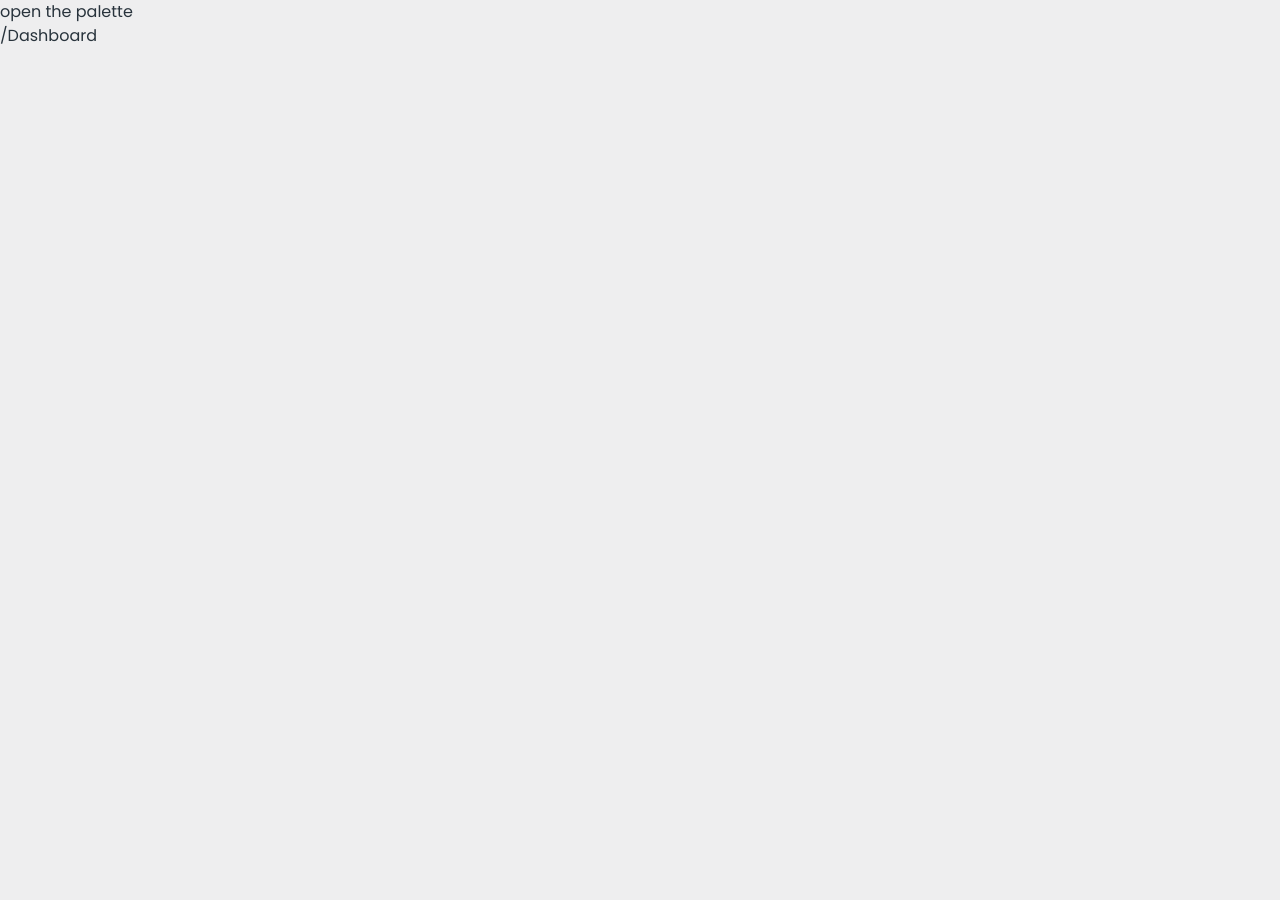
Test: choosing › offers only the pages and actions the person may use
Press k
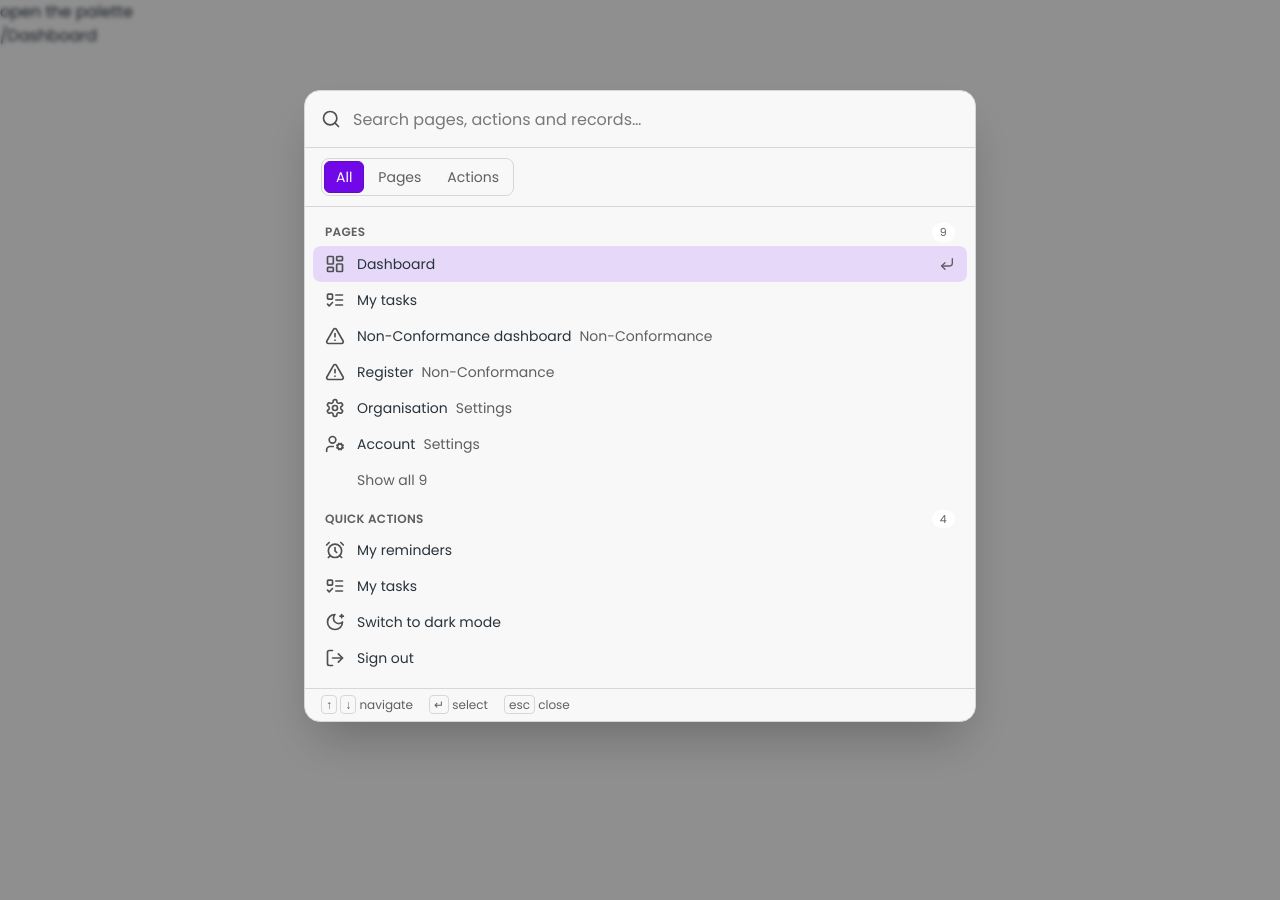
Type "calibration" into the dropdown labelled "Search pages, actions and records…".
click(656, 119); type("calibration")  # box [353,91,959,147]
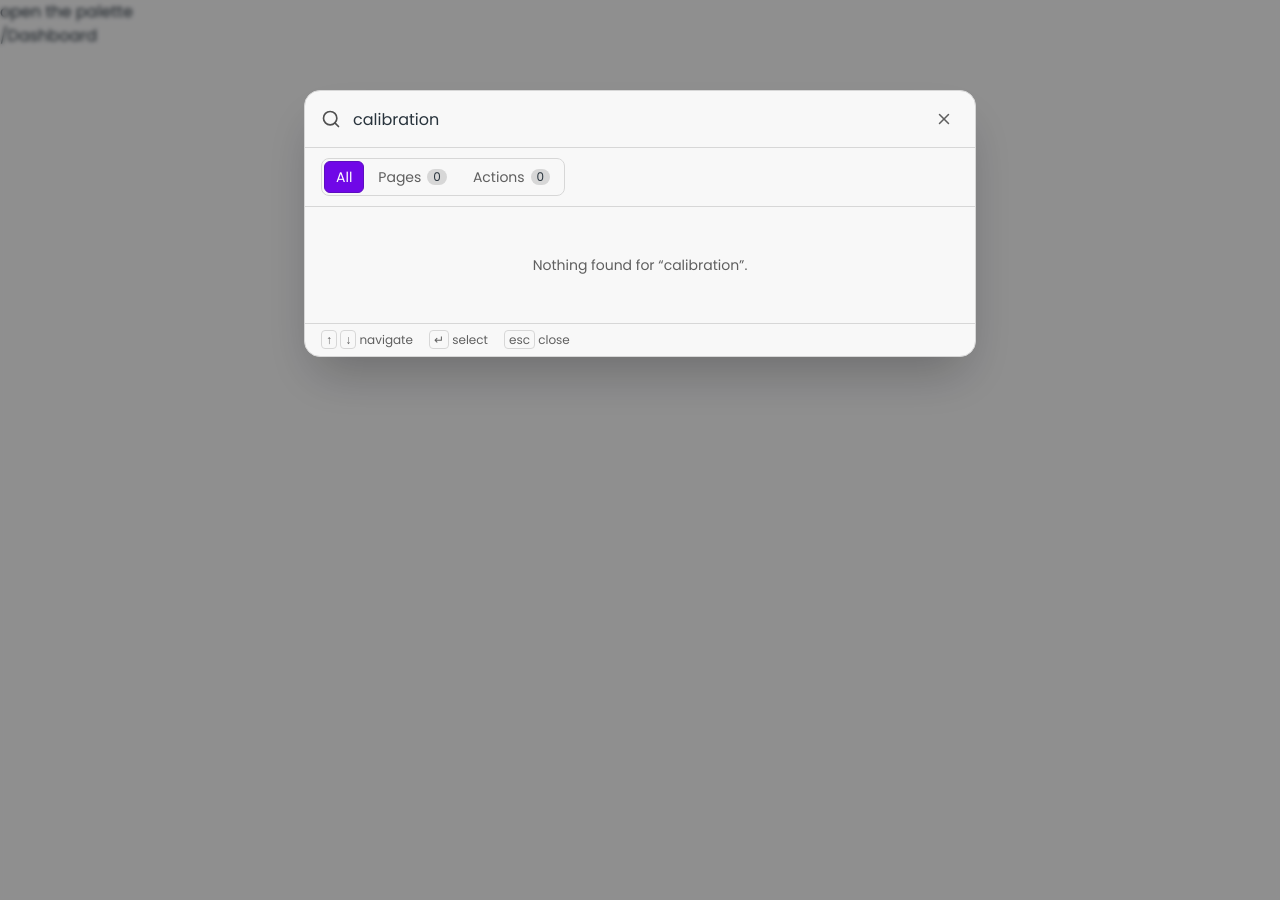
Expected: the text "Nothing found for “calibration”." is shown, [533,255,747,275]
Replace the text in the dropdown named "Search pages, actions and records" with "new non" at {"x": 635, "y": 119}, box [353,91,917,147]
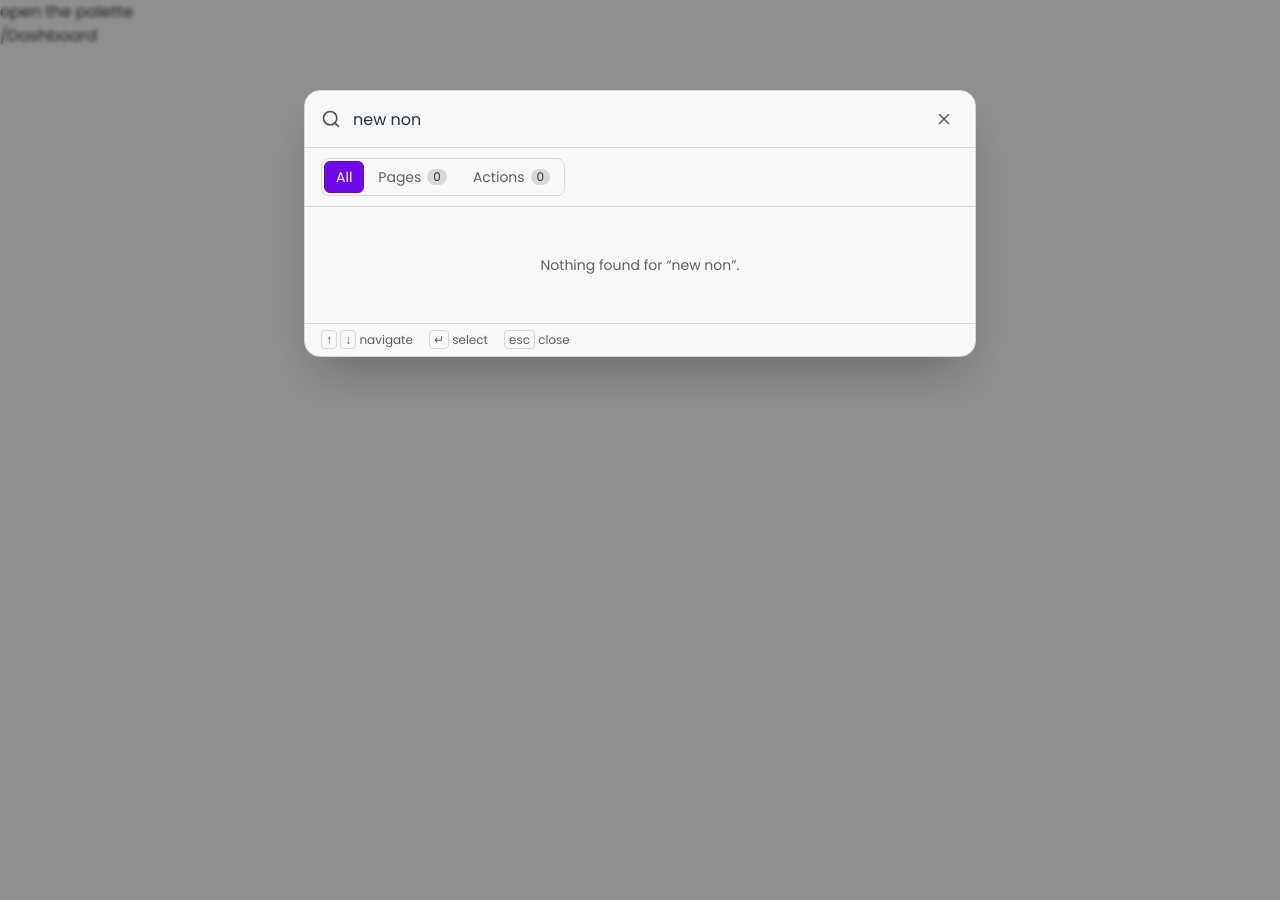
Expected: the text "Nothing found for “new non”." is shown, [540,255,740,275]
Replace the text in the dropdown named "Search pages, actions and records" with "new non-" at {"x": 635, "y": 119}, box [353,91,917,147]
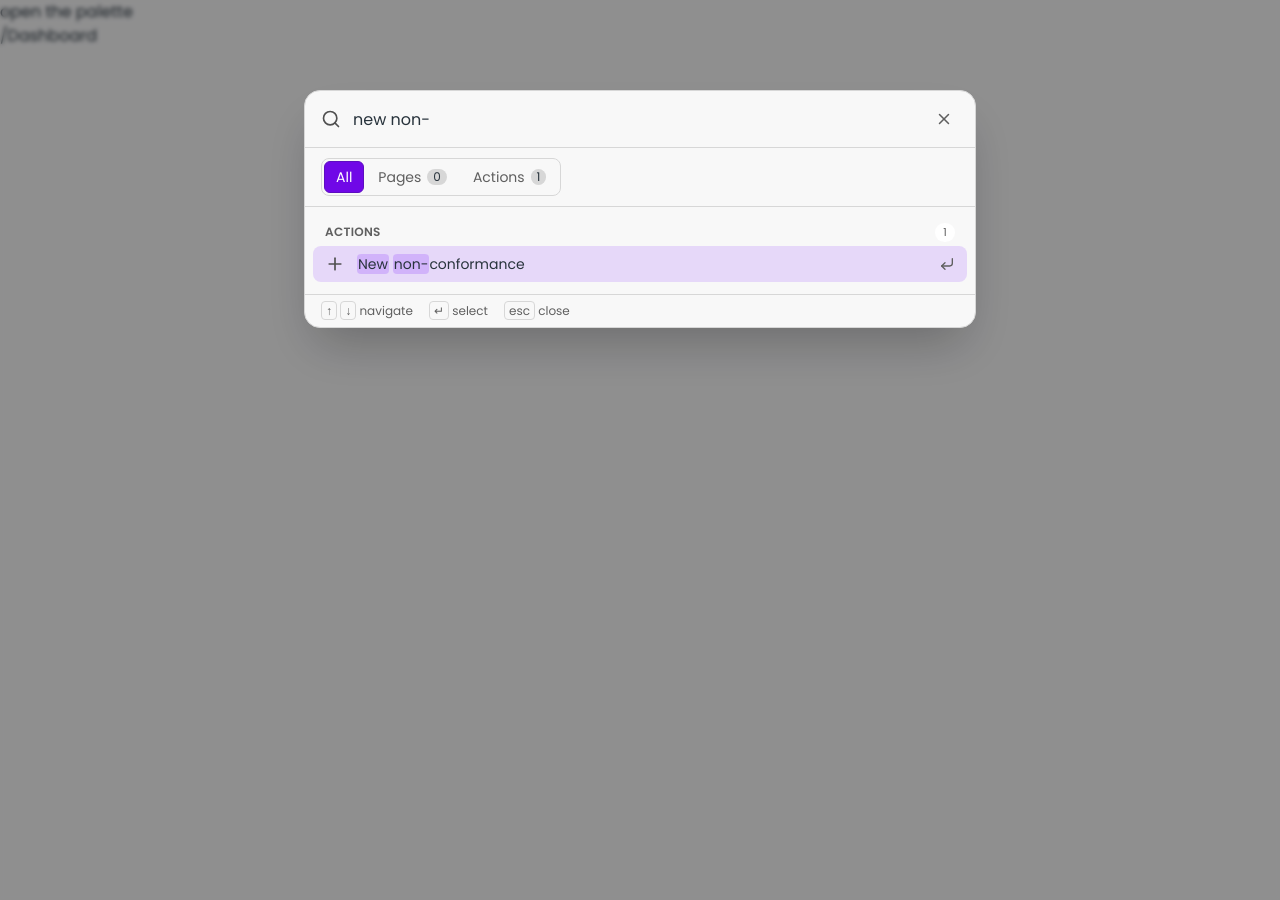
Expected: the option "New non-conformance" is shown, [313,246,967,282]
